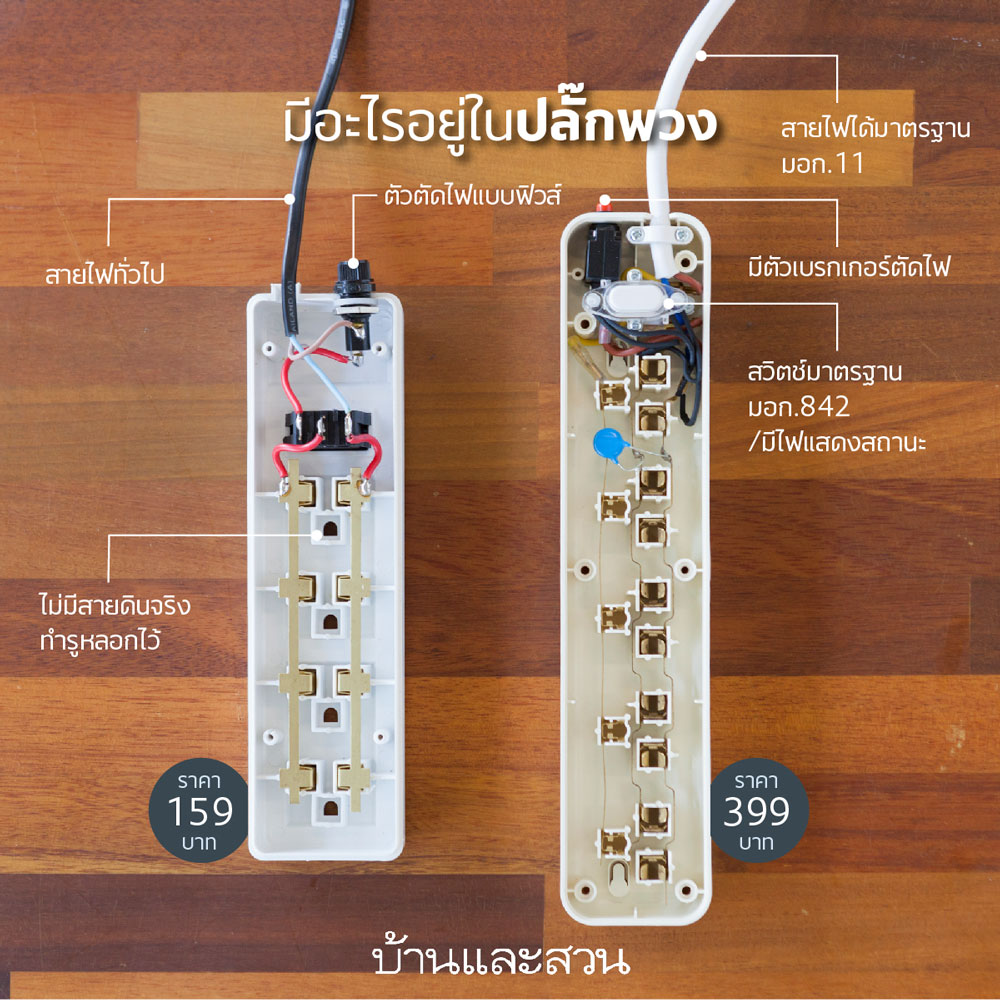Three_eye_plug: (546, 196, 718, 933), (236, 266, 418, 876)
